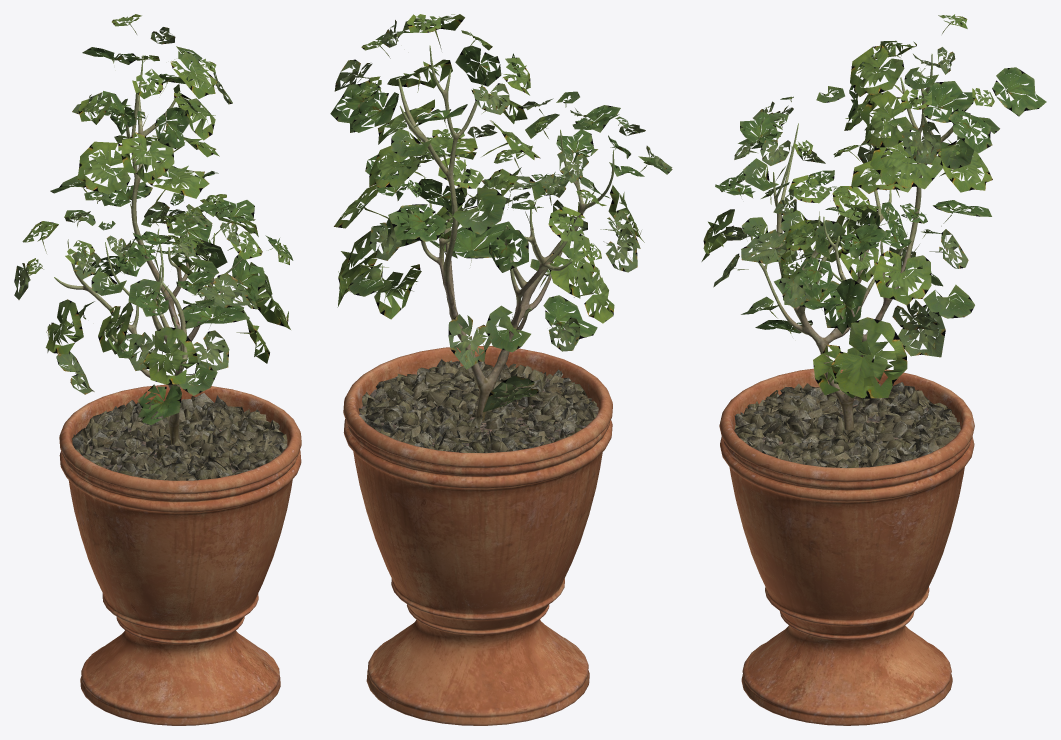
The model's file is web.glb.
3 renders of one model, left to right at view 1: azimuth 30°, elevation 25°; view 2: azimuth 150°, elevation 25°; view 3: azimuth 270°, elevation 25°, orthographic. The views are drawn at different scales.
Visible parts, largest first — view 1: potted_plant_01_pot, potted_plant_01_leaves, potted_plant_01_pebbles, potted_plant_01_stem; view 2: potted_plant_01_pot, potted_plant_01_leaves, potted_plant_01_pebbles, potted_plant_01_stem; view 3: potted_plant_01_pot, potted_plant_01_leaves, potted_plant_01_pebbles, potted_plant_01_stem.
Part boxes in pixels (box(x1,y1,x2,y2)): potted_plant_01_pot: box(59, 384, 301, 725); potted_plant_01_leaves: box(14, 14, 293, 424); potted_plant_01_pebbles: box(72, 393, 287, 480); potted_plant_01_stem: box(54, 55, 243, 444); potted_plant_01_pot: box(343, 346, 612, 725); potted_plant_01_leaves: box(330, 14, 672, 412); potted_plant_01_pebbles: box(358, 359, 598, 452); potted_plant_01_stem: box(398, 45, 614, 420); potted_plant_01_pot: box(719, 368, 974, 725); potted_plant_01_leaves: box(701, 14, 1046, 398); potted_plant_01_pebbles: box(734, 382, 960, 467); potted_plant_01_stem: box(750, 54, 965, 430).
Bounding box in the file's own units: 0.587 × 1.33 × 0.6305.
Materials: 2 (2 with a texture image).
